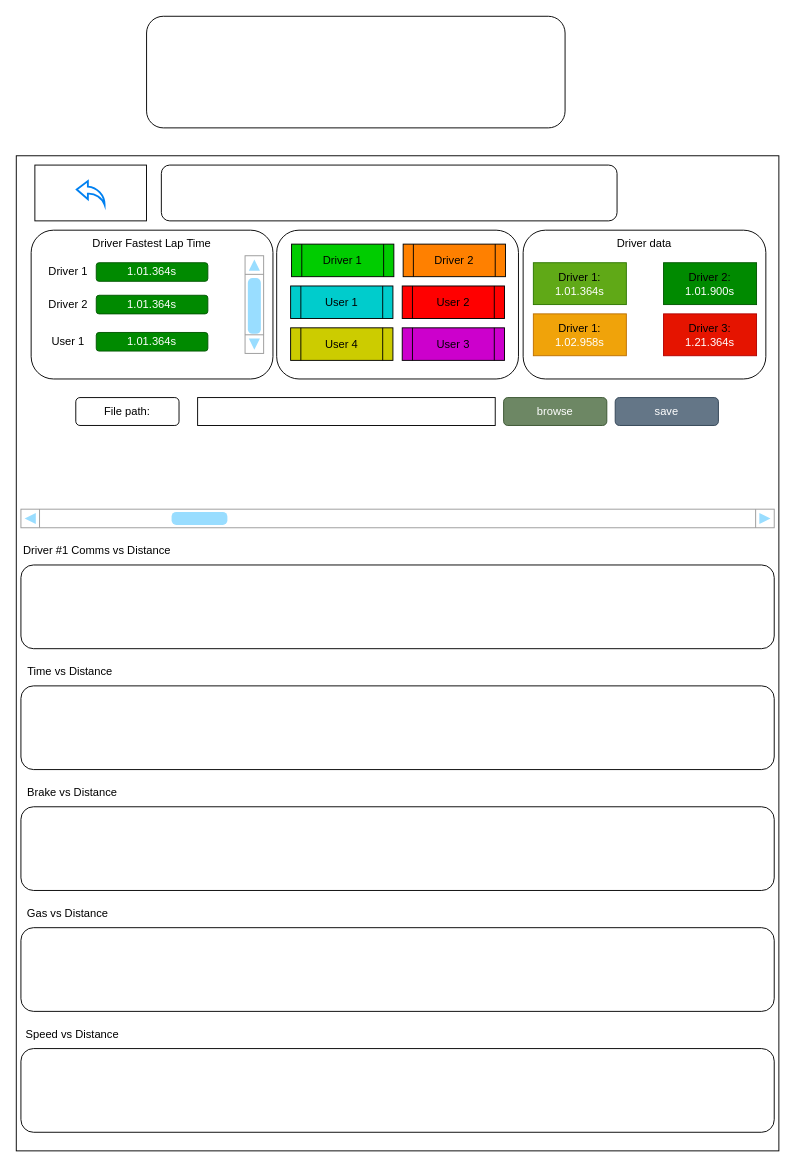
This 795x1167 diagram has some shape labels left out. The centre of each missing label's shape, as x and y in pixels:
"Race Data Dashboard - Borneo Dash Kart Q4 track" belongs at point (388, 192).
"Strategy and Comms page" belongs at point (355, 71).
